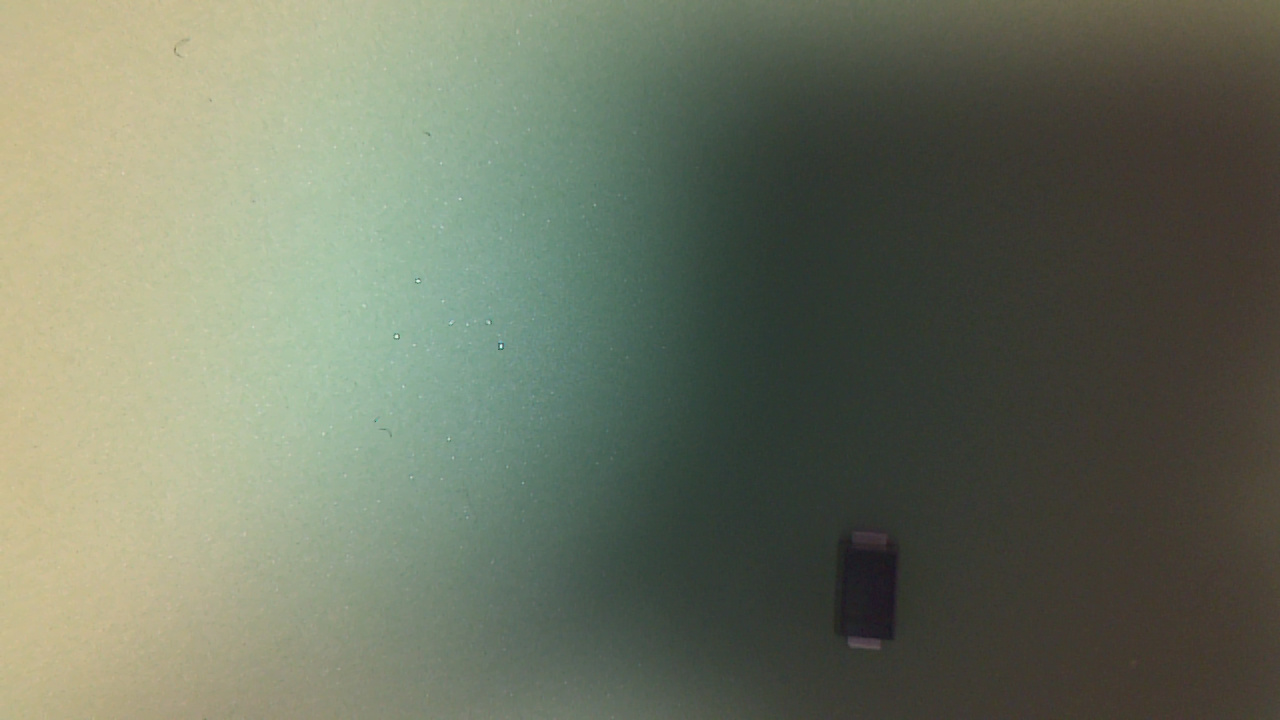Diode: (837, 530, 915, 656)
